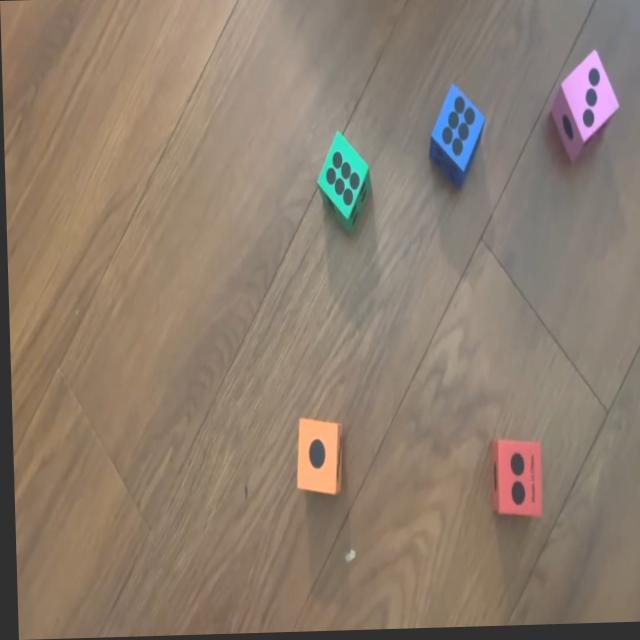blue_block: (424, 84, 487, 191)
red_block: (485, 440, 542, 519)
